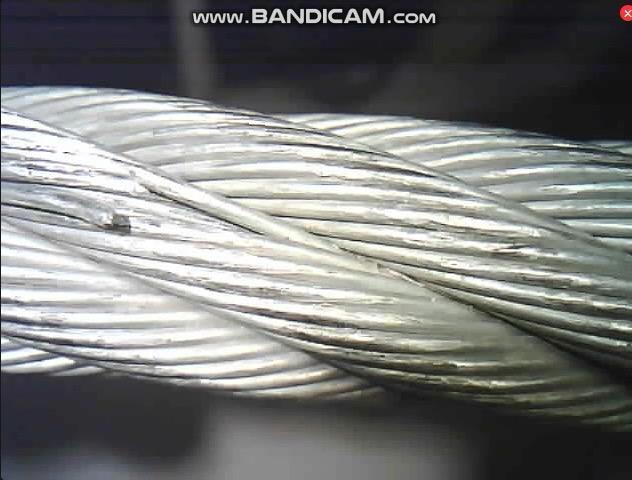break: (87, 156, 161, 240)
